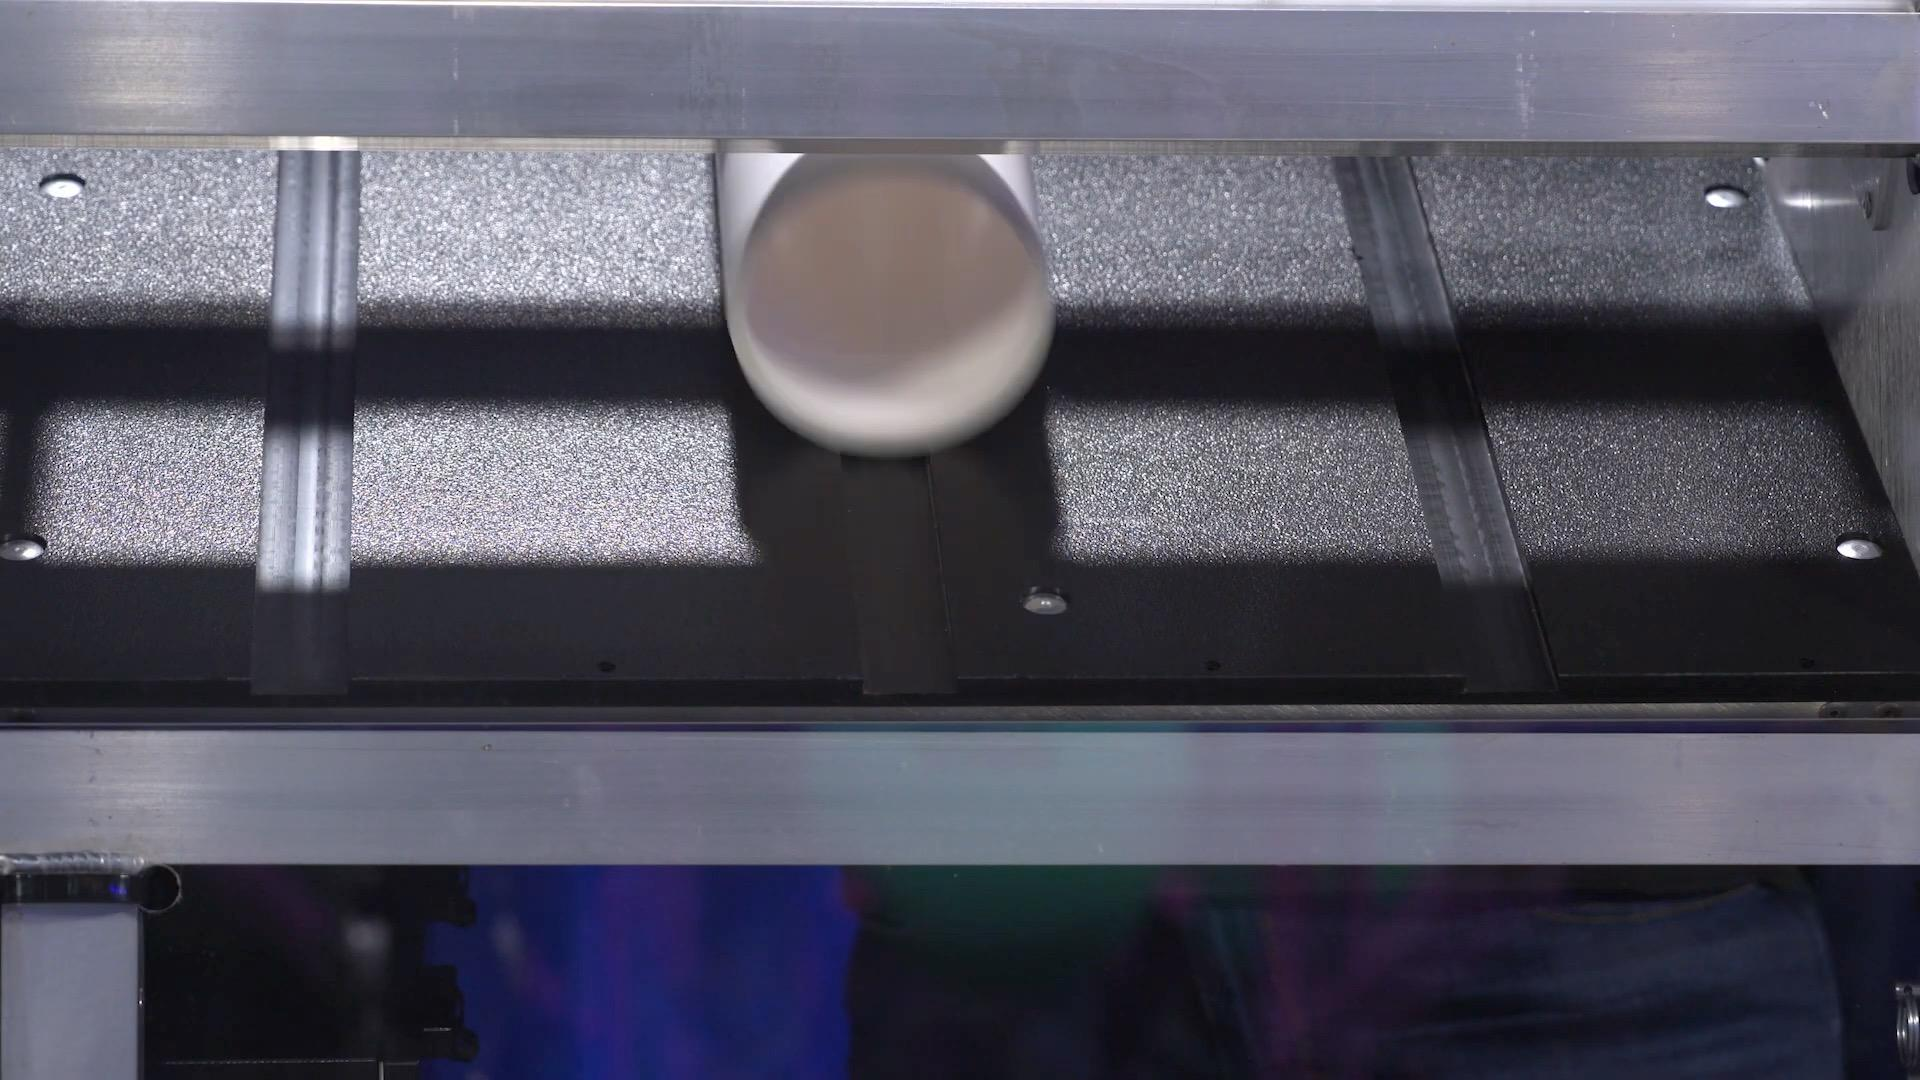CORAL: (720, 154, 1054, 458)
